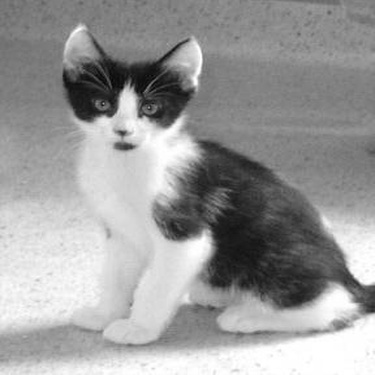cat: (8, 4, 372, 330)
